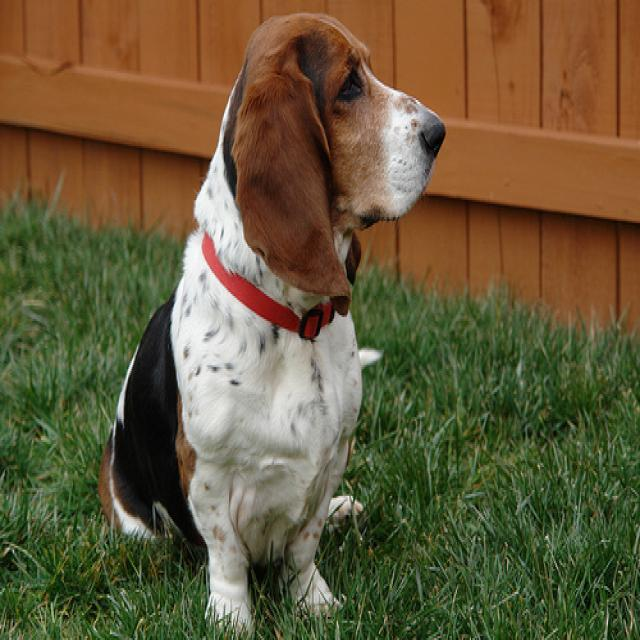dog-basset_hound: (97, 4, 448, 630)
